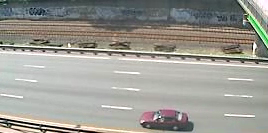car: (137, 108, 195, 133)
